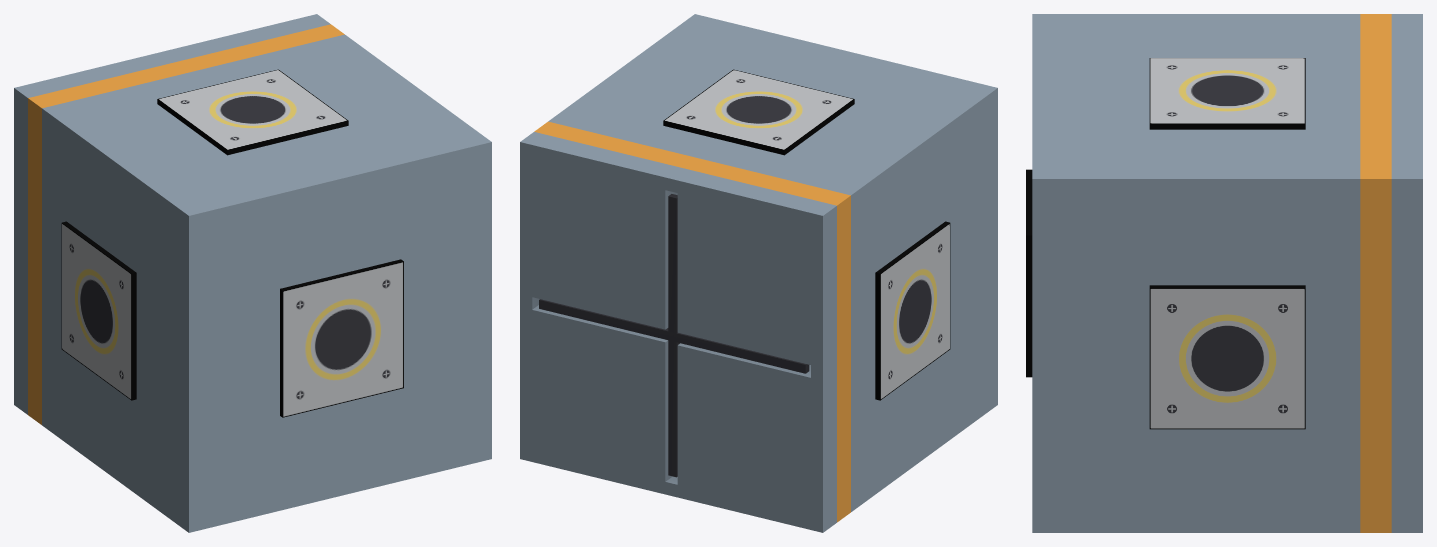
3 views of the same model, side by side, from view 1: azimuth 30°, elevation 25°; view 2: azimuth 150°, elevation 25°; view 3: azimuth 270°, elevation 25° (orthographic). The views are drawn at different scales.
Visible parts, largest first — view 1: Body, NegY, NegX, PosZ, Head; view 2: Head, Body, NegX, PosZ; view 3: Body, PosX, Head, PosZ, NegY.
Part boxes in pixels (x1,y1,x2,y2): Body: (28, 24, 491, 532); NegY: (280, 259, 403, 417); NegX: (61, 221, 136, 400); PosZ: (157, 69, 348, 155); Head: (14, 14, 330, 414); Head: (520, 132, 836, 532); Body: (534, 14, 997, 522); NegX: (875, 221, 950, 400); PosZ: (663, 69, 854, 155); Body: (1032, 14, 1391, 532); PosX: (1149, 285, 1305, 429); Head: (1391, 14, 1422, 532); PosZ: (1149, 58, 1305, 129); NegY: (1026, 169, 1032, 377).
Size of the model in its own units: 1.03 by 1.03 by 1.02.
Materials: 5 (1 with a texture image).
